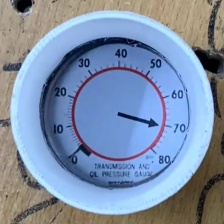gauge: (44, 42, 190, 187)
